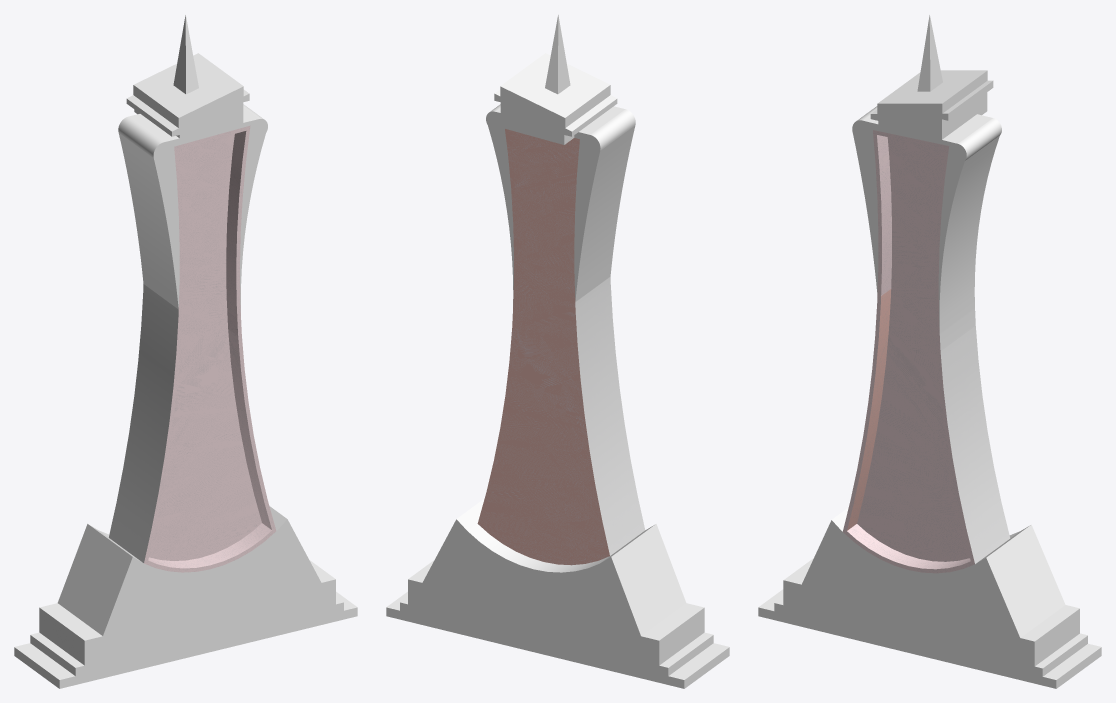
File: G_Background.fbx
3 renders of one model, left to right at view 1: azimuth 30°, elevation 25°; view 2: azimuth 150°, elevation 25°; view 3: azimuth 330°, elevation 25°, orthographic.
Parts seen in each view (by area): view 1: group_0.001, group_0.003, group_0.002, group_0.008, group_0.007, group_0.006; view 2: group_0.009, group_0.003, group_0.002, group_0.008, group_0.006; view 3: group_0.003, group_0.001, group_0.002, group_0.010, group_0.007, group_0.004, group_0.006.
Boxes of the visible parts, bbox=[...] form: group_0.001: bbox=[148, 131, 271, 568]; group_0.003: bbox=[14, 506, 357, 688]; group_0.002: bbox=[118, 53, 267, 311]; group_0.008: bbox=[109, 284, 178, 562]; group_0.007: bbox=[144, 125, 276, 572]; group_0.006: bbox=[173, 15, 198, 94]; group_0.009: bbox=[477, 129, 609, 565]; group_0.003: bbox=[386, 499, 729, 688]; group_0.002: bbox=[486, 53, 635, 305]; group_0.008: bbox=[575, 276, 644, 555]; group_0.006: bbox=[545, 15, 570, 94]; group_0.003: bbox=[758, 507, 1101, 688]; group_0.001: bbox=[847, 135, 970, 569]; group_0.002: bbox=[852, 70, 1001, 333]; group_0.010: bbox=[939, 308, 1010, 563]; group_0.007: bbox=[842, 130, 974, 573]; group_0.004: bbox=[847, 289, 891, 530]; group_0.006: bbox=[917, 15, 942, 91].
Bounding box in the file's own units: 5179 × 10322 × 1363.
